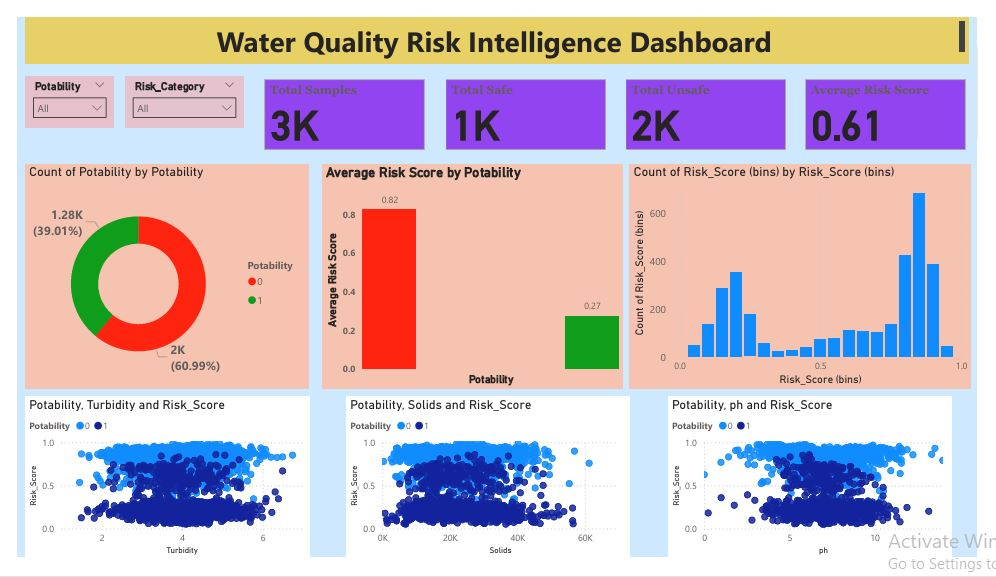

The dashboard page shown, as its layout file describes it:
{"tool":"powerbi","page":{"name":"Page 1","canvas":[1280,720],"ordinal":0},"visuals":[{"type":"textbox","box":[10.1,0,1258.2,62.2],"z":0},{"type":"cardVisual","fields":{"Data":["water_risk_scores.Total Samples"]},"box":[324.2,77.3,223.4,104.1],"z":1000},{"type":"cardVisual","fields":{"Data":["water_risk_scores.Total Safe"]},"box":[566.1,77.3,223.4,104.1],"z":2000},{"type":"cardVisual","fields":{"Data":["water_risk_scores.Total Unsafe"]},"box":[806.3,77.3,223.4,104.1],"z":3000},{"type":"cardVisual","fields":{"Data":["water_risk_scores.Average Risk Score"]},"box":[1044.8,77.3,223.4,104.1],"z":4000},{"type":"donutChart","fields":{"Category":["water_risk_scores.Potability"],"Y":["CountNonNull(water_risk_scores.Potability)"]},"box":[10.3,195.4,377.6,299.8],"z":5000},{"type":"clusteredColumnChart","fields":{"Category":["water_risk_scores.Risk_Score (bins)"],"Y":["CountNonNull(water_risk_scores.Risk_Score (bins))"]},"box":[815.5,195.4,457,299.8],"z":6000},{"type":"clusteredColumnChart","fields":{"Category":["water_risk_scores.Potability"],"Y":["water_risk_scores.Average Risk Score"]},"box":[405.6,195.4,401.1,299.8],"z":7000},{"type":"scatterChart","fields":{"Y":["water_risk_scores.Risk_Score"],"Series":["water_risk_scores.Potability"],"X":["water_risk_scores.Solids"]},"box":[437.9,505.5,377.6,214.5],"z":8000},{"type":"scatterChart","fields":{"X":["water_risk_scores.ph"],"Y":["water_risk_scores.Risk_Score"],"Series":["water_risk_scores.Potability"]},"box":[866.9,505.5,377.6,214.5],"z":9000},{"type":"scatterChart","fields":{"X":["water_risk_scores.Turbidity"],"Y":["water_risk_scores.Risk_Score"],"Series":["water_risk_scores.Potability"]},"box":[10.3,505.5,379.1,214.5],"z":10000},{"type":"slicer","fields":{"Values":["water_risk_scores.Potability"]},"box":[10.3,77.9,117.6,69.1],"z":11000},{"type":"slicer","fields":{"Values":["water_risk_scores.Risk_Category"]},"box":[142.5,77.9,158.7,69.1],"z":11001}]}

Visuals, with their boxes on the page's 1280x720 design canvas (x1, y1, x2, y2). These are canvas units, not pixel positions in the 996x577 screenshot, which may show the page scaled, cropped or inside an application window:
textbox: <region>10, 0, 1268, 62</region>
cardVisual - water_risk_scores.Total Samples: <region>324, 77, 548, 181</region>
cardVisual - water_risk_scores.Total Safe: <region>566, 77, 790, 181</region>
cardVisual - water_risk_scores.Total Unsafe: <region>806, 77, 1030, 181</region>
cardVisual - water_risk_scores.Average Risk Score: <region>1045, 77, 1268, 181</region>
donutChart - water_risk_scores.Potability x CountNonNull(water_risk_scores.Potability): <region>10, 195, 388, 495</region>
clusteredColumnChart - water_risk_scores.Risk_Score (bins) x CountNonNull(water_risk_scores.Risk_Score (bins)): <region>816, 195, 1272, 495</region>
clusteredColumnChart - water_risk_scores.Potability x water_risk_scores.Average Risk Score: <region>406, 195, 807, 495</region>
scatterChart - water_risk_scores.Risk_Score x water_risk_scores.Potability: <region>438, 506, 816, 720</region>
scatterChart - water_risk_scores.ph x water_risk_scores.Risk_Score: <region>867, 506, 1244, 720</region>
scatterChart - water_risk_scores.Turbidity x water_risk_scores.Risk_Score: <region>10, 506, 389, 720</region>
slicer - water_risk_scores.Potability: <region>10, 78, 128, 147</region>
slicer - water_risk_scores.Risk_Category: <region>142, 78, 301, 147</region>
